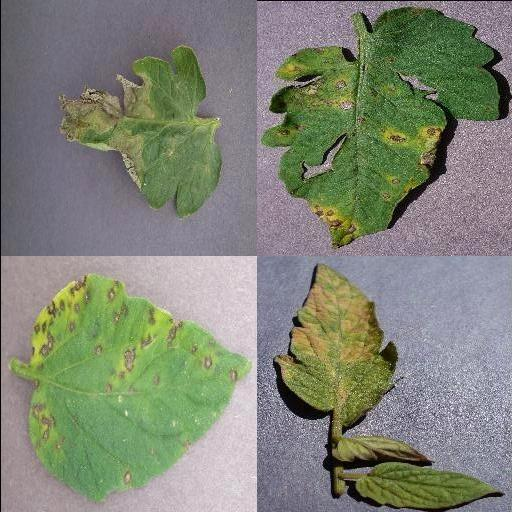Healthy: (357, 463, 506, 512)
Late Blight: (56, 47, 220, 221)
Leaf Mold: (273, 260, 406, 428)
Septoria: (259, 6, 499, 252), (29, 275, 251, 501)
